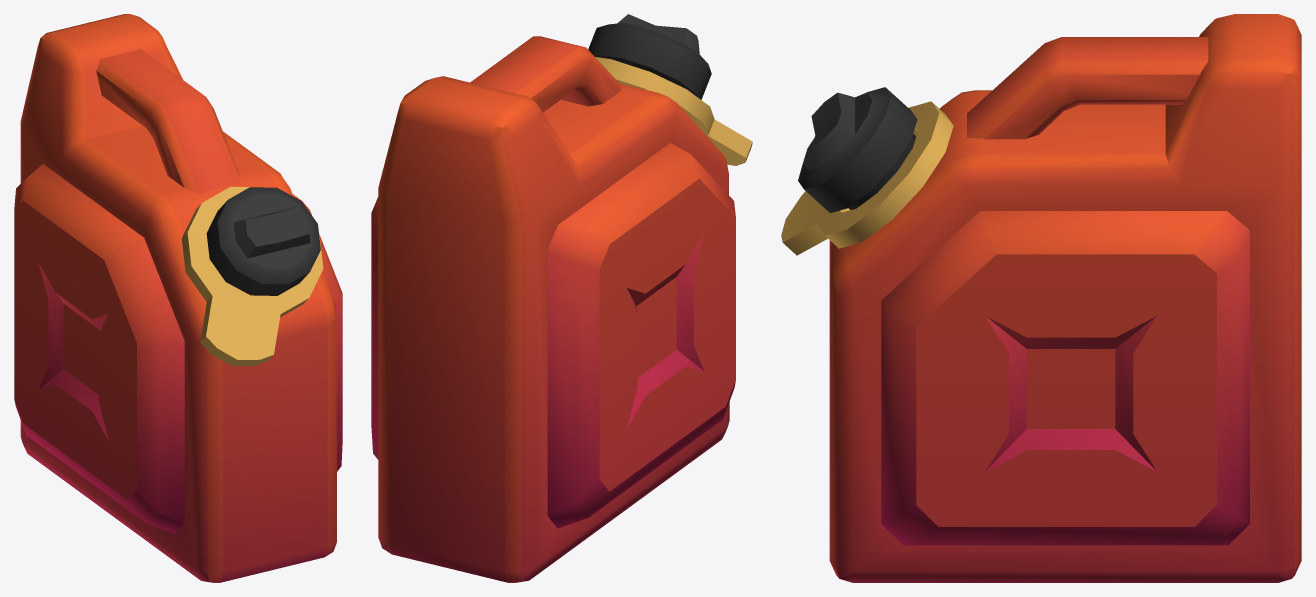
The model's file is kk_jerrycan.glb.
3 renders of one model, left to right at view 1: azimuth 30°, elevation 25°; view 2: azimuth 150°, elevation 25°; view 3: azimuth 270°, elevation 25°, orthographic. The views are drawn at different scales.
Visible parts, largest first — view 1: Fuel_A_Jerrycan; view 2: Fuel_A_Jerrycan; view 3: Fuel_A_Jerrycan.
Part boxes in pixels (x1,y1,x2,y2): Fuel_A_Jerrycan: (14,14,342,582); Fuel_A_Jerrycan: (371,14,752,582); Fuel_A_Jerrycan: (781,14,1301,582).
Bounding box in the file's own units: 0.2308 × 0.45 × 0.4134.
Materials: 1 (1 with a texture image).
